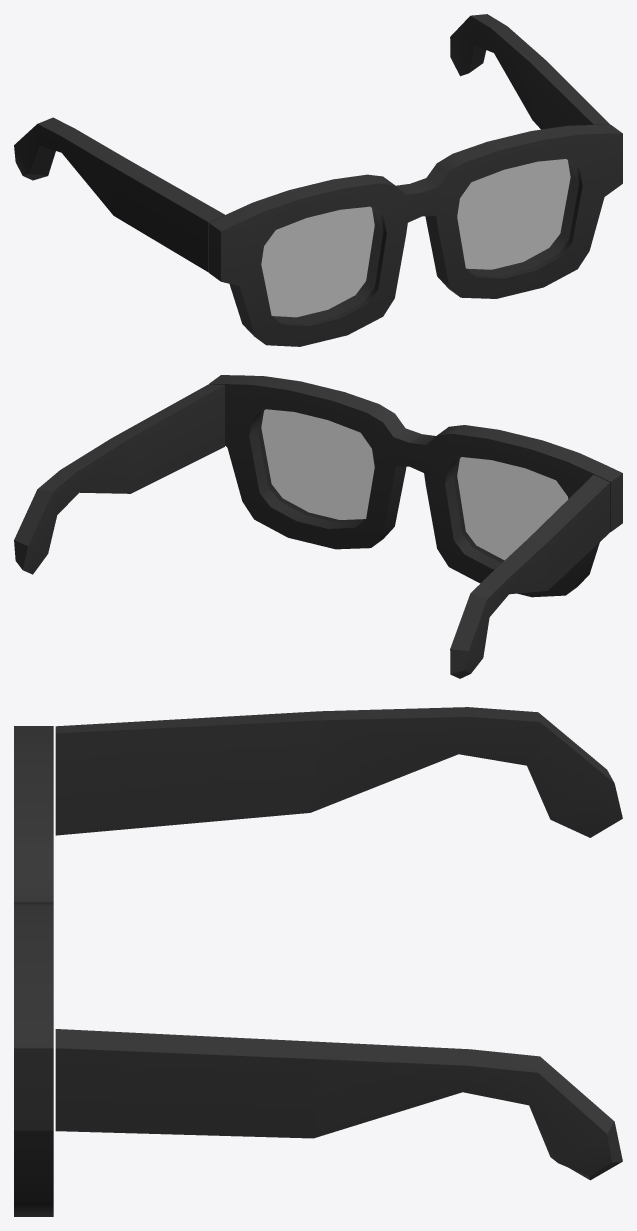
Rendered from Eyewear_2.fbx.
3 renders of one model, top to bottom at view 1: azimuth 30°, elevation 25°; view 2: azimuth 150°, elevation 25°; view 3: azimuth 270°, elevation 25°, orthographic. The views are drawn at different scales.
Visible parts, largest first — view 1: Eyewear_2; view 2: Eyewear_2; view 3: Eyewear_2.
Boxes of the visible parts, bbox=[...] form: Eyewear_2: bbox=[14, 14, 622, 346]; Eyewear_2: bbox=[14, 375, 622, 678]; Eyewear_2: bbox=[14, 707, 622, 1216].
Bounding box in the file's own units: 54.35 × 16.87 × 38.37.
